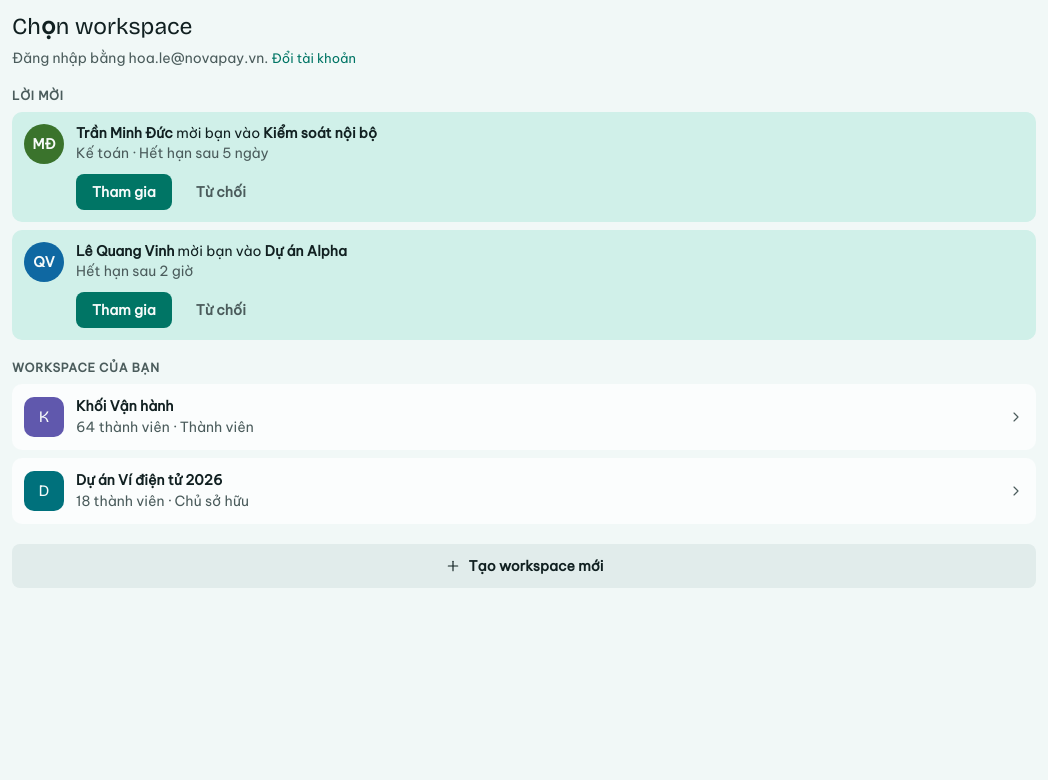
Scenario: Workspace selection: invitations › says what happened when joining fails with 404, and stays
Click the button "Tham gia" below "Kế toán · Hết hạn sau 5 ngày" at (124, 192), box [76,174,172,210]
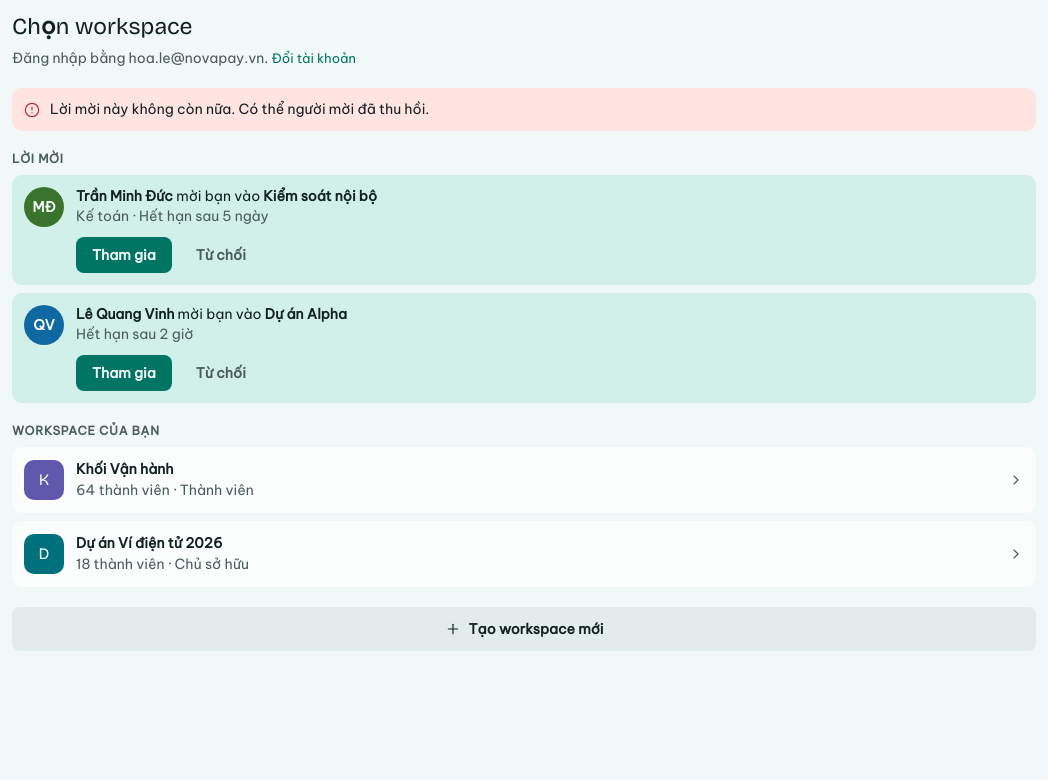
Now the message shows "không còn nữa", box [50,100,429,118]
